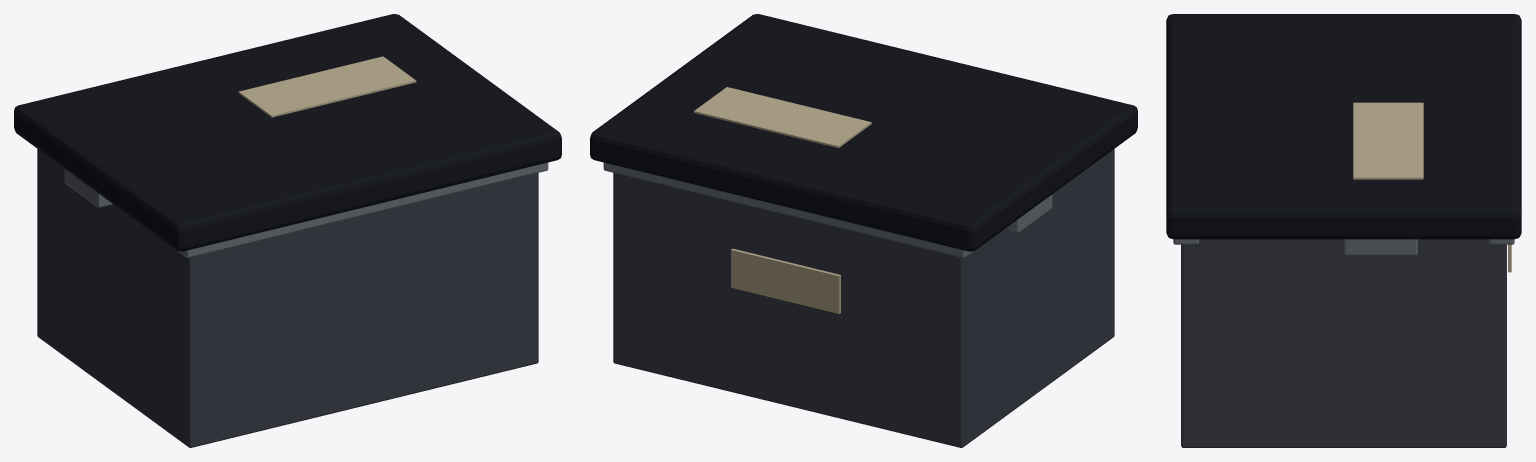
The model's file is plastic_bin_lidded.glb.
The picture shows the model from 3 angles, left to right: view 1: azimuth 30°, elevation 25°; view 2: azimuth 150°, elevation 25°; view 3: azimuth 270°, elevation 25°; orthographic projection. The views are drawn at different scales.
Visible parts, largest first — view 1: plastic_bin_lidded; view 2: plastic_bin_lidded; view 3: plastic_bin_lidded.
Part boxes in pixels (left/top/right/bottom): plastic_bin_lidded: left=14, top=14, right=561, bottom=447; plastic_bin_lidded: left=590, top=14, right=1137, bottom=447; plastic_bin_lidded: left=1166, top=14, right=1521, bottom=447.
Size of the model in its own units: 0.64 by 0.3715 by 0.48.
